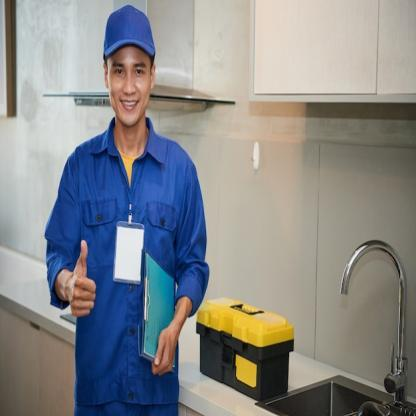thumb_up: (58, 237, 100, 320)
